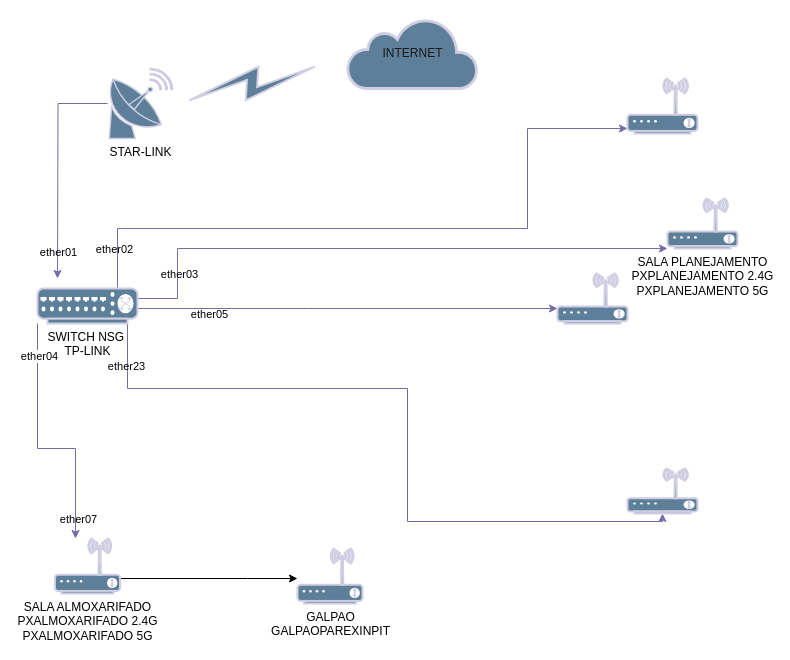
Image size: 790x660. Some labels were removed from this diagram. The centre of each missing label's shape, as x and y in pixels:
SALA DE GUERRA PXSALADEGUERRA 2.4G PXSALADEGUERRA 5G: [662,490]
SALA DE SEGURANCA PXSSMA 2.4G PXSSMA 5G: [592,298]
SALA GERENCIA PXENGENHARIA 2.4G PXENGENHARIA 5G: [662,105]
